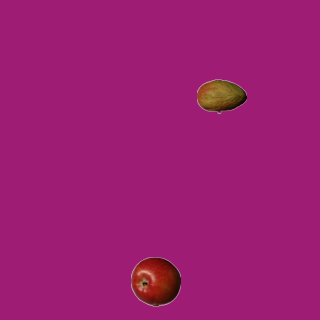Apple Braeburn: (130, 256, 180, 306)
Papaya: (196, 71, 246, 121)
